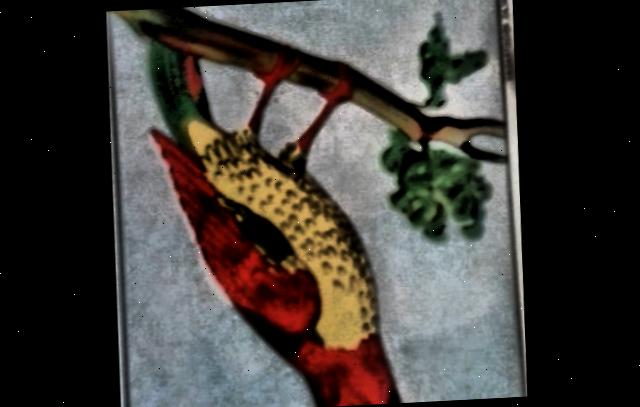El Pajaro: (108, 0, 525, 407)
